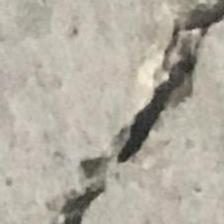Crack: (40, 0, 224, 224)
